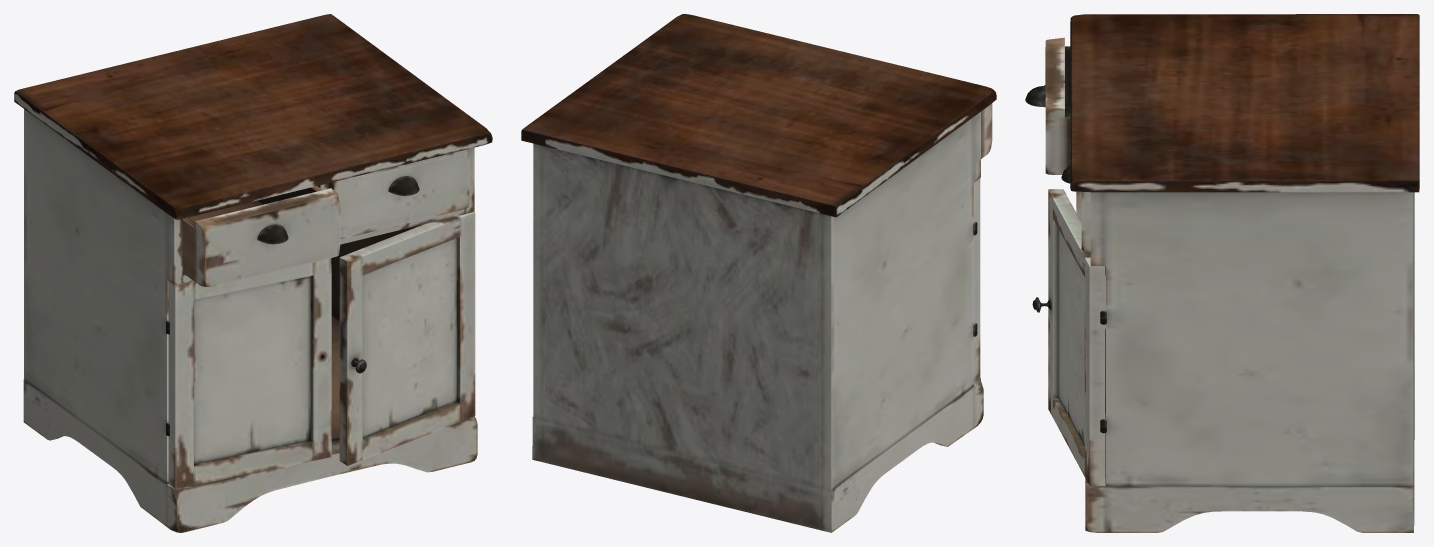
File: ph-painted-wooden-cabinet.glb
3 views of the same model, side by side, from view 1: azimuth 30°, elevation 25°; view 2: azimuth 150°, elevation 25°; view 3: azimuth 270°, elevation 25° (orthographic). The views are drawn at different scales.
Visible parts, largest first — view 1: painted_wooden_cabinet; view 2: painted_wooden_cabinet; view 3: painted_wooden_cabinet.
Boxes of the visible parts, x1=… form: painted_wooden_cabinet: x1=14, y1=14, x2=492, y2=532; painted_wooden_cabinet: x1=521, y1=14, x2=996, y2=532; painted_wooden_cabinet: x1=1025, y1=14, x2=1419, y2=532.
Size of the model in its own units: 1 by 1 by 1.
1 material, 1 textured.
